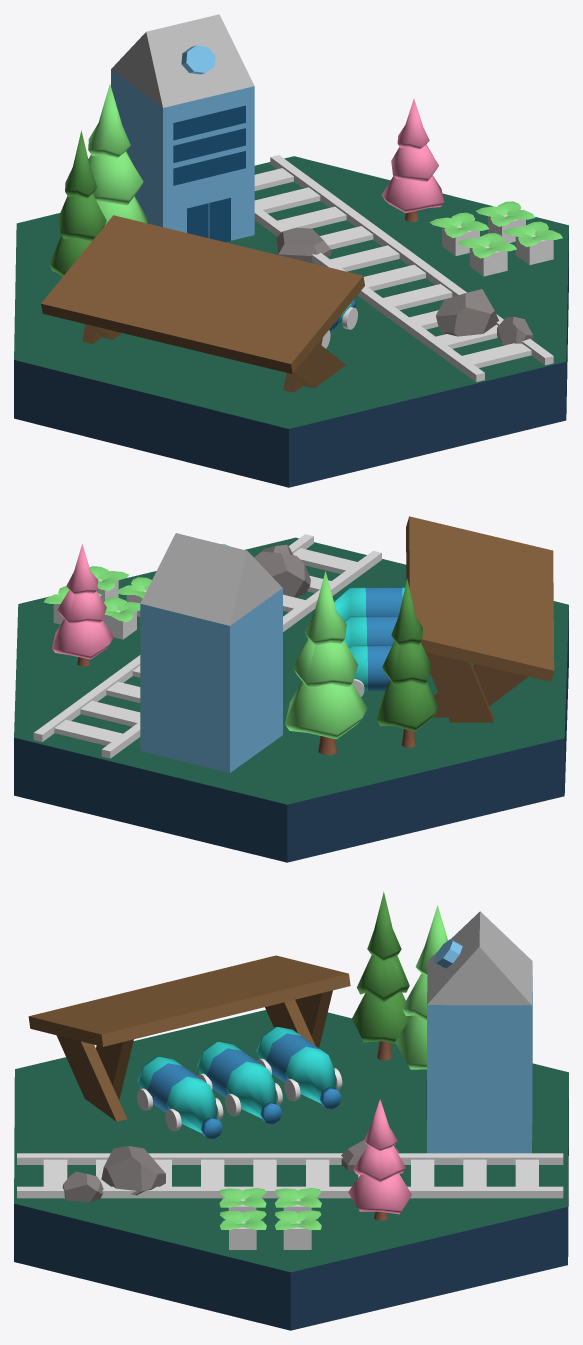
File: Macro - Transportation Hub lvl 1 WM1.fbx
3 renders of one model, top to bottom at view 1: azimuth 30°, elevation 25°; view 2: azimuth 150°, elevation 25°; view 3: azimuth 270°, elevation 25°, orthographic.
Parts seen in each view (by area): view 1: Cylinder.013, table.001, milkbox1.001, Tree_Spruce_tiny_01.008, Tree_Spruce_tiny_01.003, Tree_Spruce_tiny_01.007, Cube.011, Cube.012, Rock Type2 04 mesh.002, Rock Type4 04 mesh.001, Plane.001, Plane.003 (+19 smaller); view 2: Cylinder.013, milkbox1.001, table.001, Tree_Spruce_tiny_01.008, Tree_Spruce_tiny_01.007, Tree_Spruce_tiny_01.003, Cube.012, coke3.003, Cube.011, Rock Type2 04 mesh.002, coke3.004, coke3.005 (+7 smaller); view 3: Cylinder.013, milkbox1.001, table.001, Tree_Spruce_tiny_01.007, Cube.011, Cube.012, Tree_Spruce_tiny_01.003, coke3.004, coke3.003, coke3.005, Tree_Spruce_tiny_01.008, Rock Type2 04 mesh.002 (+14 smaller).
Boxes of the visible parts, x1,y1,x2,y2 form: Cylinder.013: (14, 156, 568, 487); table.001: (41, 215, 364, 392); milkbox1.001: (111, 14, 254, 240); Tree_Spruce_tiny_01.008: (88, 84, 147, 225); Tree_Spruce_tiny_01.003: (382, 99, 444, 221); Tree_Spruce_tiny_01.007: (49, 130, 106, 276); Cube.011: (270, 155, 553, 365); Cube.012: (254, 204, 484, 382); Rock Type2 04 mesh.002: (436, 289, 498, 336); Rock Type4 04 mesh.001: (276, 227, 330, 261); Plane.001: (173, 151, 245, 185); Plane.003: (173, 105, 245, 140); Cylinder.013: (14, 537, 568, 862); milkbox1.001: (140, 533, 282, 772); table.001: (406, 516, 554, 722); Tree_Spruce_tiny_01.008: (285, 571, 367, 755); Tree_Spruce_tiny_01.007: (376, 578, 438, 747); Tree_Spruce_tiny_01.003: (52, 544, 113, 666); Cube.012: (101, 550, 381, 758); coke3.003: (313, 587, 404, 621); Cube.011: (33, 534, 313, 741); Rock Type2 04 mesh.002: (254, 551, 310, 597); coke3.004: (344, 616, 398, 647); coke3.005: (349, 645, 427, 690); Cylinder.013: (14, 1010, 568, 1330); milkbox1.001: (427, 911, 532, 1153); table.001: (28, 955, 350, 1121); Tree_Spruce_tiny_01.007: (352, 891, 411, 1060); Cube.011: (17, 1186, 563, 1198); Cube.012: (17, 1153, 563, 1164); Tree_Spruce_tiny_01.003: (348, 1099, 411, 1220); coke3.004: (197, 1042, 282, 1124); coke3.003: (137, 1057, 222, 1139); coke3.005: (256, 1027, 341, 1109); Tree_Spruce_tiny_01.008: (395, 905, 447, 1069); Rock Type2 04 mesh.002: (101, 1146, 165, 1195).
Size of the model in its own units: 197 by 89.35 by 172.
